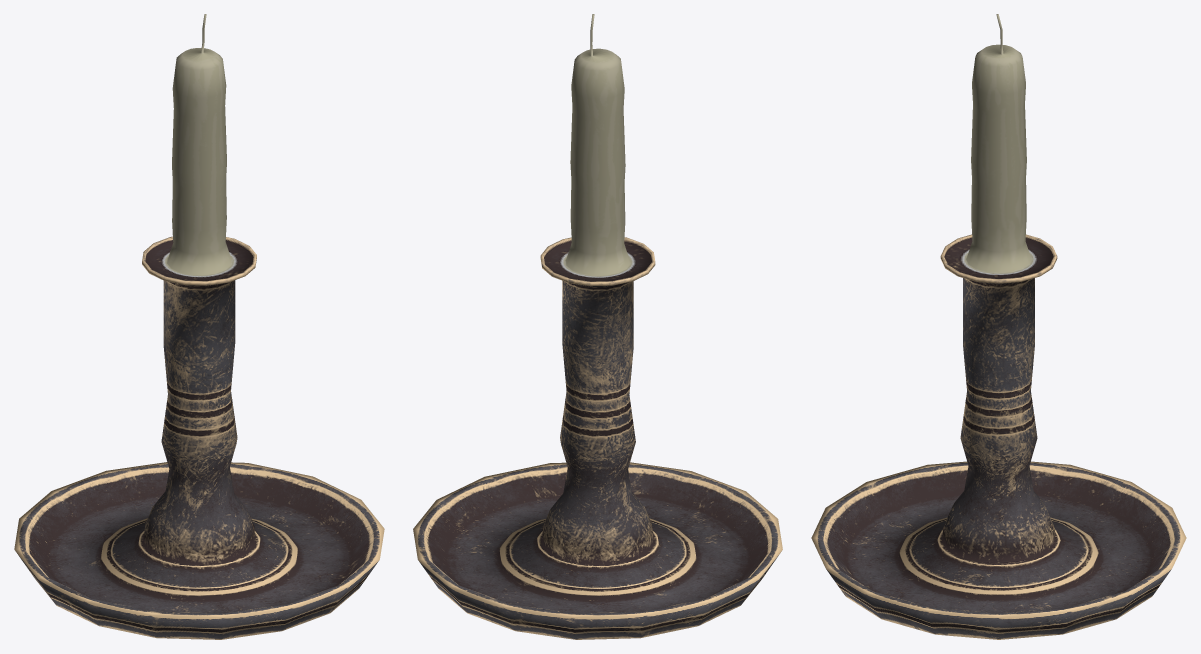
The model's file is candle.glb.
The picture shows the model from 3 angles, left to right: view 1: azimuth 30°, elevation 25°; view 2: azimuth 150°, elevation 25°; view 3: azimuth 270°, elevation 25°; orthographic projection.
Visible parts, largest first — view 1: Candle_low; view 2: Candle_low; view 3: Candle_low.
Part boxes in pixels (left/top/right/bottom): Candle_low: left=14, top=14, right=384, bottom=639; Candle_low: left=413, top=14, right=782, bottom=639; Candle_low: left=811, top=14, right=1186, bottom=639.
Bounding box in the file's own units: 0.1266 × 0.2077 × 0.1266.
Materials: 1 (1 with a texture image).
